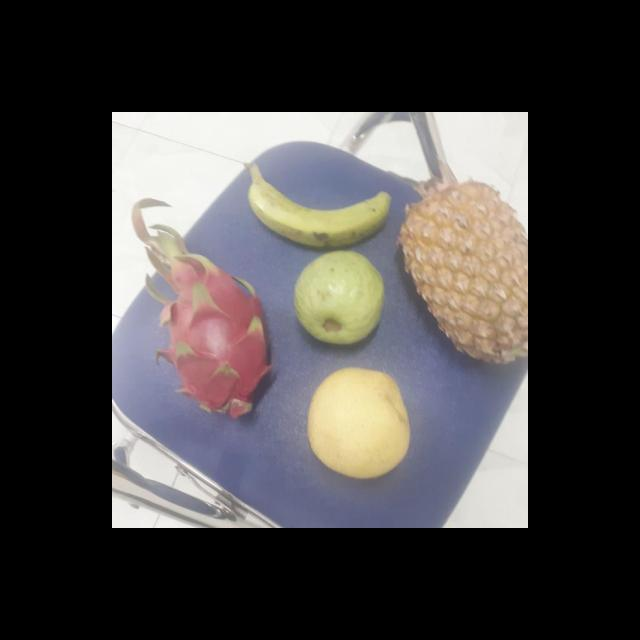banana: (254, 172, 398, 250)
guava: (294, 253, 390, 344)
pear: (307, 366, 418, 478)
pineapple: (406, 183, 528, 367)
pitaya: (148, 260, 278, 418)
